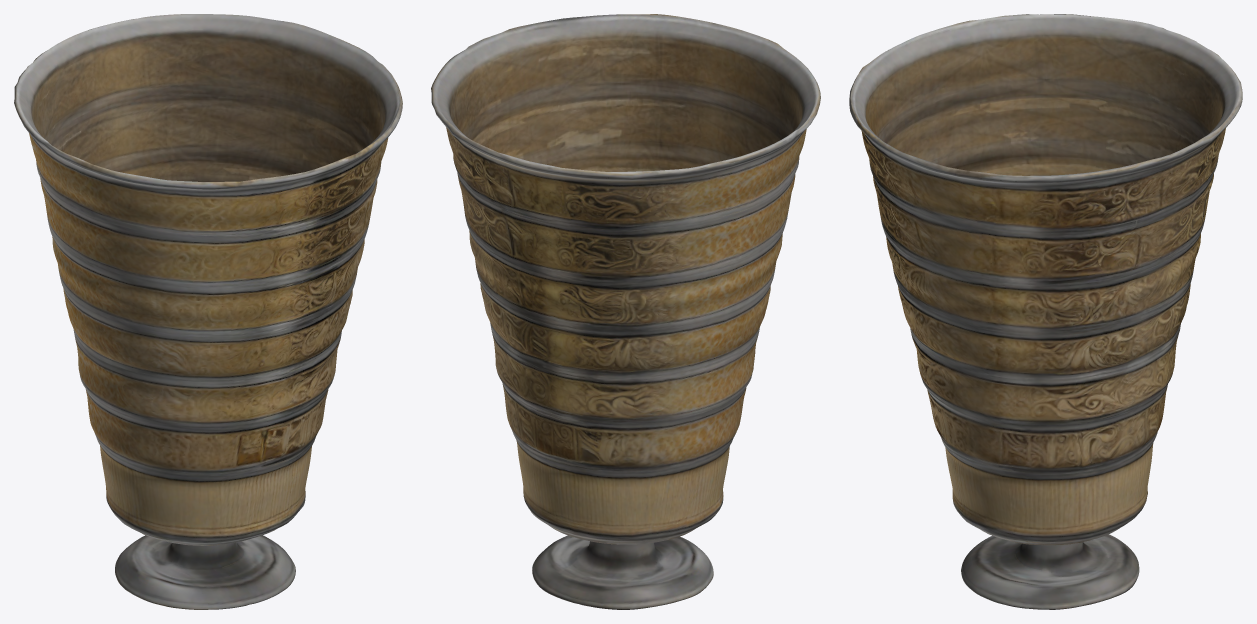
Rendered from Golden_Chalice_1126101444.fbx.
The picture shows the model from 3 angles, left to right: view 1: azimuth 30°, elevation 25°; view 2: azimuth 150°, elevation 25°; view 3: azimuth 270°, elevation 25°; orthographic projection.
Visible parts, largest first — view 1: Mesh_0; view 2: Mesh_0; view 3: Mesh_0.
Part boxes in pixels (x1,y1,x2,y2): Mesh_0: (14, 14, 402, 609); Mesh_0: (431, 14, 820, 609); Mesh_0: (849, 14, 1242, 609).
Bounding box in the file's own units: 146 × 200 × 148.
Materials: 1 (1 with a texture image).
